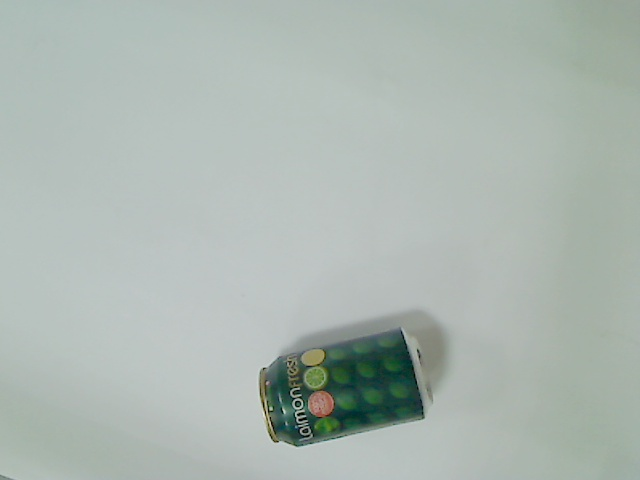can: (257, 323, 438, 449)
